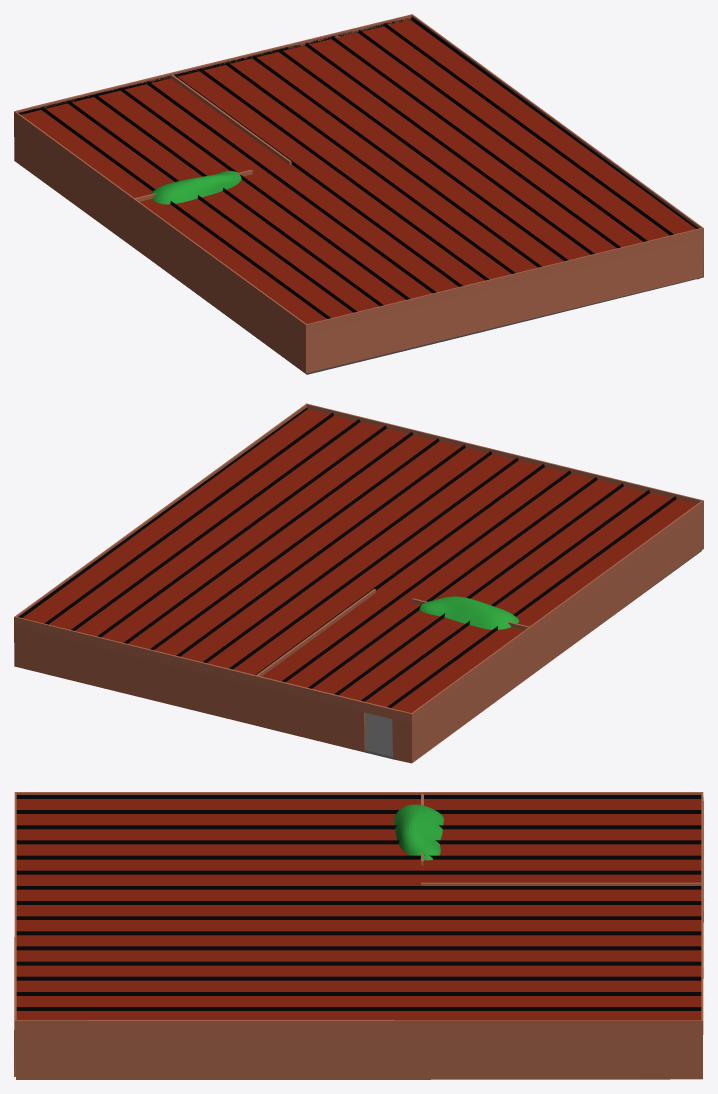
File: LD Jam Level 2.fbx
3 renders of one model, top to bottom at view 1: azimuth 30°, elevation 25°; view 2: azimuth 150°, elevation 25°; view 3: azimuth 270°, elevation 25°, orthographic. The views are drawn at different scales.
Visible parts, largest first — view 1: Plane.001, Plane, Cube.009; view 2: Plane.001, Plane, Cube.009; view 3: Plane.001, Plane, Cube.009.
Boxes of the visible parts, bbox=[...] form: Plane.001: bbox=[18, 17, 698, 323]; Plane: bbox=[14, 14, 703, 374]; Cube.009: bbox=[151, 171, 241, 204]; Plane.001: bbox=[18, 407, 696, 712]; Plane: bbox=[14, 403, 703, 763]; Cube.009: bbox=[419, 596, 519, 629]; Plane.001: bbox=[16, 795, 701, 1020]; Plane: bbox=[14, 792, 703, 1079]; Cube.009: bbox=[394, 804, 443, 860].
Size of the model in its own units: 2536 by 416 by 3228.
